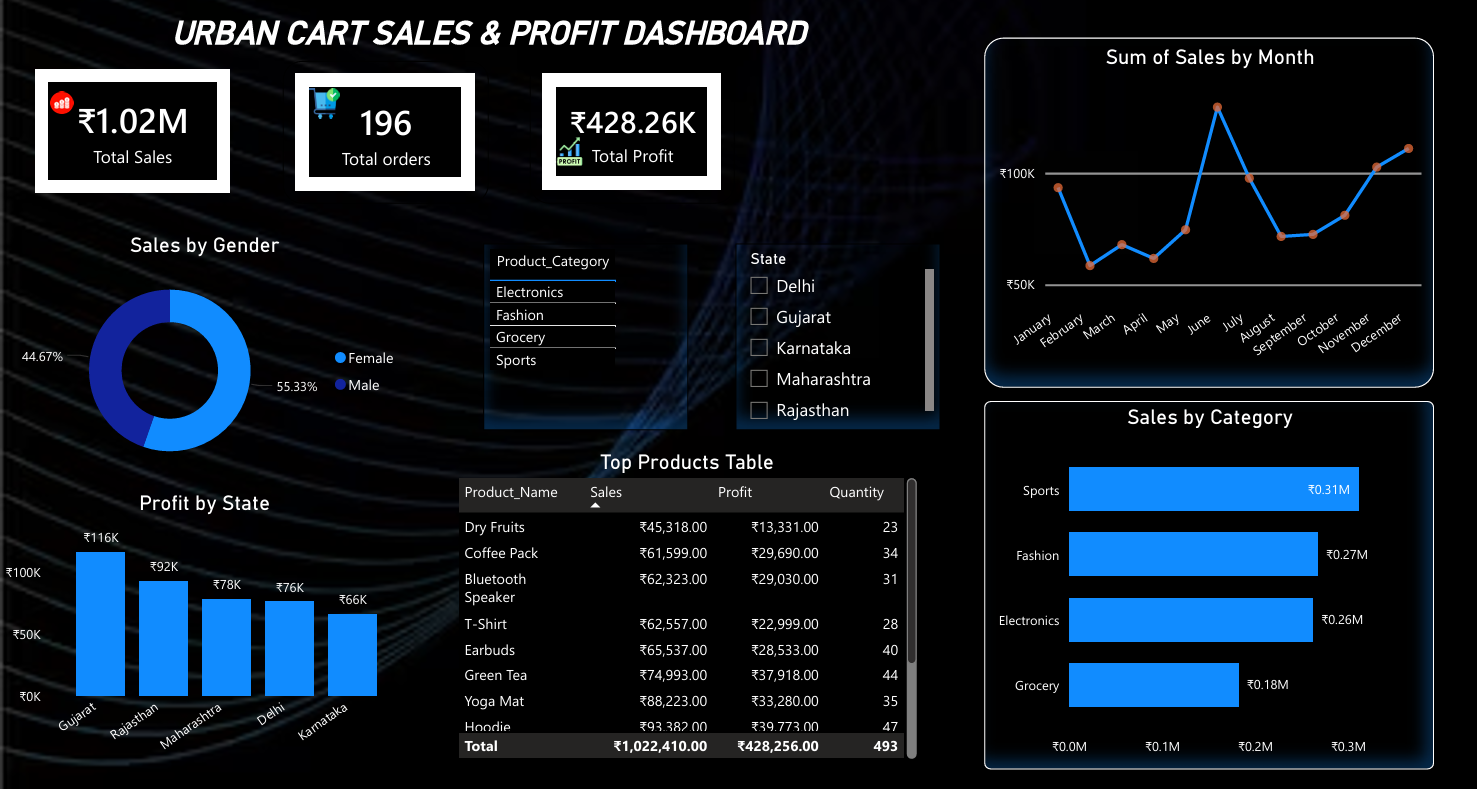

This screenshot's page, from the dashboard's own definition file:
{"tool":"powerbi","page":{"name":"Page 1","canvas":[1337,720],"ordinal":0},"visuals":[{"type":"cardVisual","fields":{"Data":["Sum(UrbanCart_Project_Workbook(Clean_Data).Sales)"]},"box":[28.3,60,191.7,125],"z":0},{"type":"cardVisual","fields":{"Data":["Sum(UrbanCart_Project_Workbook(Clean_Data).Profit)"]},"box":[493.9,56.3,190.7,132.9],"z":1000},{"type":"cardVisual","fields":{"Data":["CountNonNull(UrbanCart_Project_Workbook(Clean_Data).Order_ID)"]},"box":[263.3,56.7,191.7,133.3],"z":2000},{"type":"lineChart","fields":{"Y":["Sum(UrbanCart_Project_Workbook(Clean_Data).Sales)"],"Category":["UrbanCart_Project_Workbook(Clean_Data).order_date.Variation.Date Hierarchy.Month"]},"box":[917.3,34.8,419.1,325.8],"z":3000},{"type":"clusteredBarChart","title":"Sales by Category","fields":{"Category":["UrbanCart_Project_Workbook(Clean_Data).Product_Category"],"Y":["Sum(UrbanCart_Project_Workbook(Clean_Data).Sales)"]},"box":[917.3,373.3,419.1,343.2],"z":4000},{"type":"clusteredColumnChart","title":"Profit by State","fields":{"Category":["UrbanCart_Project_Workbook(Clean_Data).State"],"Y":["Sum(UrbanCart_Project_Workbook(Clean_Data).Profit)"]},"box":[0,456.4,381.4,264.1],"z":5000},{"type":"donutChart","title":"Sales by Gender","fields":{"Category":["UrbanCart_Project_Workbook(Clean_Data).Gender"],"Y":["Sum(UrbanCart_Project_Workbook(Clean_Data).Sales)"]},"box":[0,217.3,381.4,234.4],"z":6000},{"type":"tableEx","title":"Top Products Table","fields":{"Values":["UrbanCart_Project_Workbook(Clean_Data).Product_Name","Sum(UrbanCart_Project_Workbook(Clean_Data).Sales)","Sum(UrbanCart_Project_Workbook(Clean_Data).Profit)","Sum(UrbanCart_Project_Workbook(Clean_Data).Quantity)"]},"box":[422.3,417.6,436.5,292.6],"z":7000},{"type":"textbox","title":"URBAN CART SALES & PROFIT DASHBOARD","box":[28.3,13.3,853.3,65],"z":8000},{"type":"image","box":[46.7,78.3,21.7,35],"z":9000},{"type":"image","box":[288.3,78.3,28.3,36.7],"z":10000},{"type":"image","box":[516.7,120,28.3,41.7],"z":11000},{"type":"slicer","fields":{"Values":["UrbanCart_Project_Workbook(Clean_Data).State"]},"box":[684.8,226.2,191.4,174],"z":12000},{"type":"tableEx","fields":{"Values":["UrbanCart_Project_Workbook(Clean_Data).Product_Category"]},"box":[449.2,226.2,191.4,174],"z":13000}]}

Visuals, with their boxes in screenshot pixels (x1, y1, x2, y2), scaled from the page's 1337x720 canvas onto the 1477x789 screenshot:
cardVisual - Sum(UrbanCart_Project_Workbook(Clean_Data).Sales): BBox(31, 66, 243, 203)
cardVisual - Sum(UrbanCart_Project_Workbook(Clean_Data).Profit): BBox(546, 62, 756, 207)
cardVisual - CountNonNull(UrbanCart_Project_Workbook(Clean_Data).Order_ID): BBox(291, 62, 503, 208)
lineChart - Sum(UrbanCart_Project_Workbook(Clean_Data).Sales) x UrbanCart_Project_Workbook(Clean_Data).order_date.Variation.Date Hierarchy.Month: BBox(1013, 38, 1476, 395)
"Sales by Category" clusteredBarChart: BBox(1013, 409, 1476, 785)
"Profit by State" clusteredColumnChart: BBox(0, 500, 421, 788)
"Sales by Gender" donutChart: BBox(0, 238, 421, 495)
"Top Products Table" tableEx: BBox(467, 458, 949, 778)
"URBAN CART SALES & PROFIT DASHBOARD" textbox: BBox(31, 15, 974, 86)
image: BBox(52, 86, 76, 124)
image: BBox(318, 86, 350, 126)
image: BBox(571, 132, 602, 177)
slicer - UrbanCart_Project_Workbook(Clean_Data).State: BBox(757, 248, 968, 439)
tableEx - UrbanCart_Project_Workbook(Clean_Data).Product_Category: BBox(496, 248, 708, 439)
